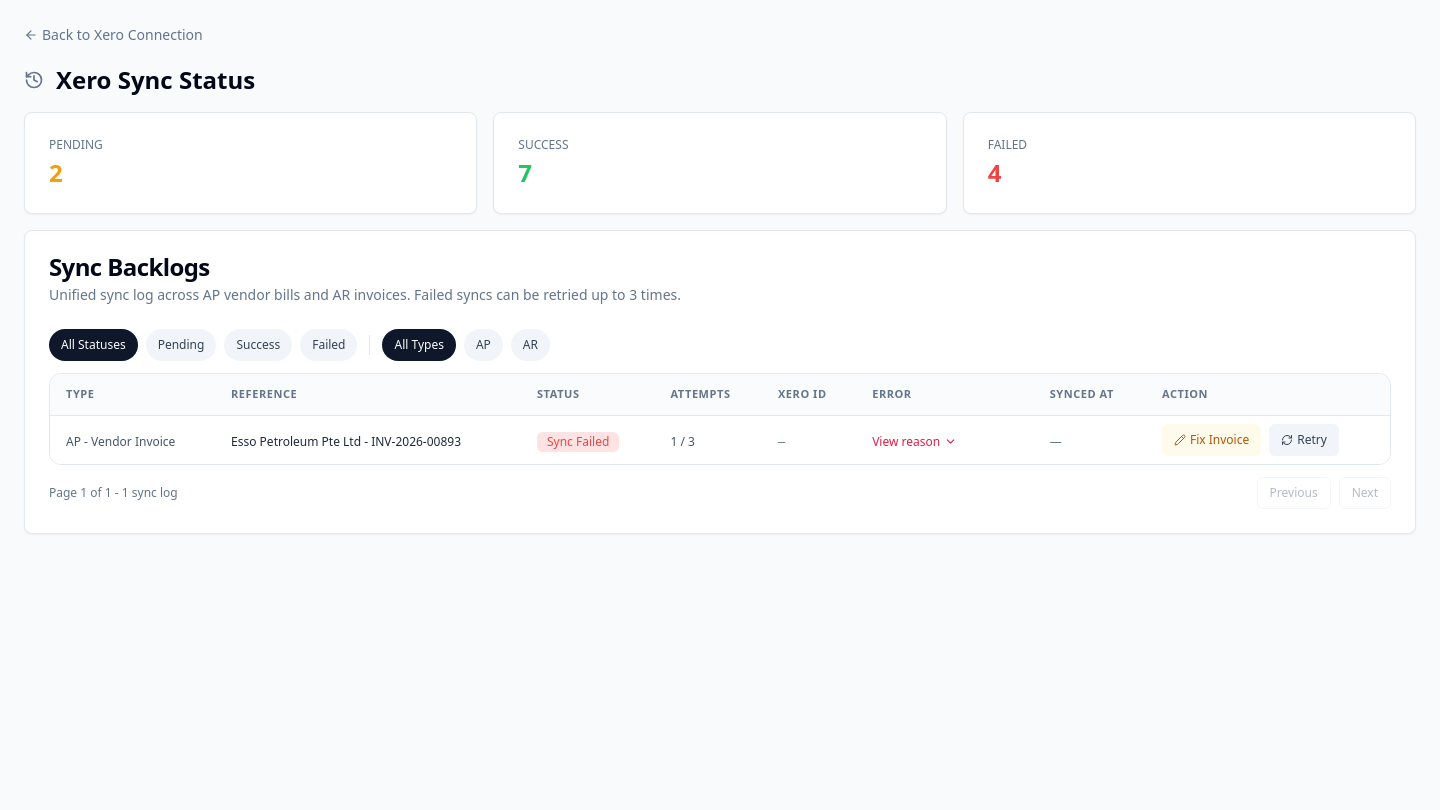
Scenario: XeroSyncStatusPage › keeps the status on one line and expands the complete error reason
Click the heading "View reason" at (915, 442), box [872, 434, 957, 450]
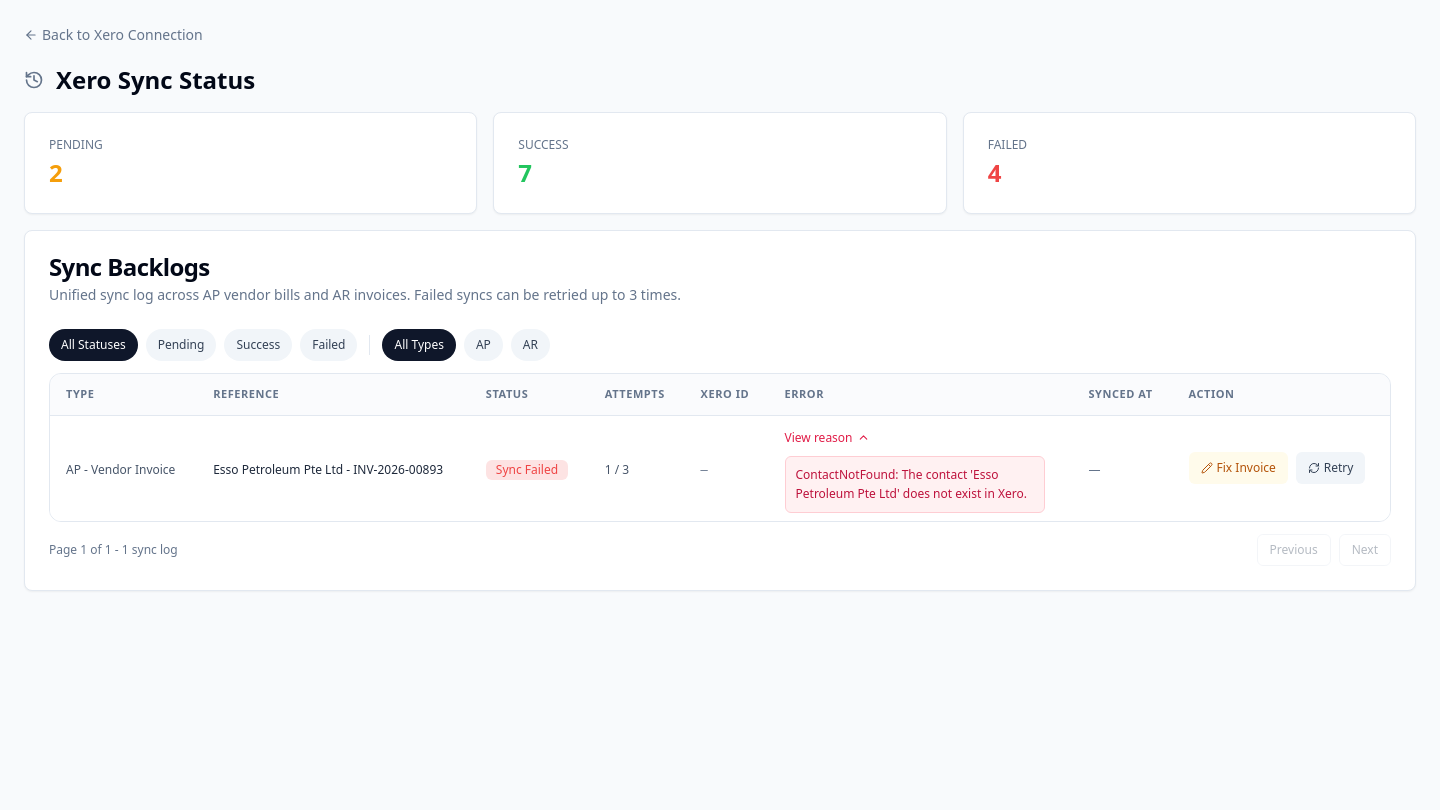
expect the text "2" is shown: met, box [49, 156, 63, 189]
expect the text "ContactNotFound: The contact 'Esso Petroleum Pte Ltd' does not exist in Xero." is shown: met, box [784, 456, 1044, 513]
